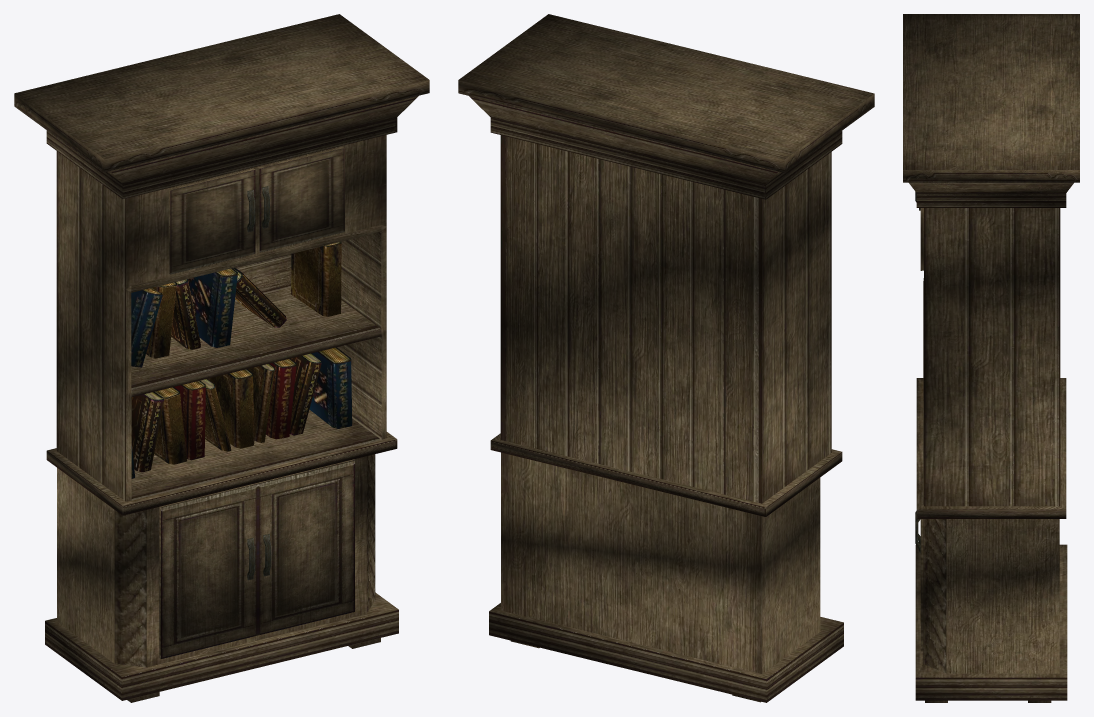
Rendered from GS_VOB_BOOKCASE_BROWN_01_2_KOZA.glb.
The picture shows the model from 3 angles, left to right: view 1: azimuth 30°, elevation 25°; view 2: azimuth 150°, elevation 25°; view 3: azimuth 270°, elevation 25°; orthographic projection. The views are drawn at different scales.
Parts seen in each view (by area): view 1: Mesh; view 2: Mesh; view 3: Mesh.
Boxes of the visible parts, x1,y1,x2,y2 form: Mesh: [14, 14, 429, 702]; Mesh: [458, 14, 874, 702]; Mesh: [903, 14, 1079, 702].
Size of the model in its own units: 1.41 by 2.33 by 0.6778.
5 materials, 5 textured.
